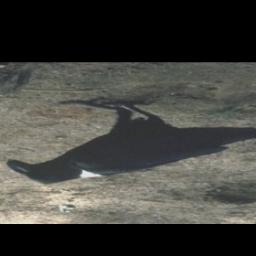Crow: (6, 98, 256, 186)
